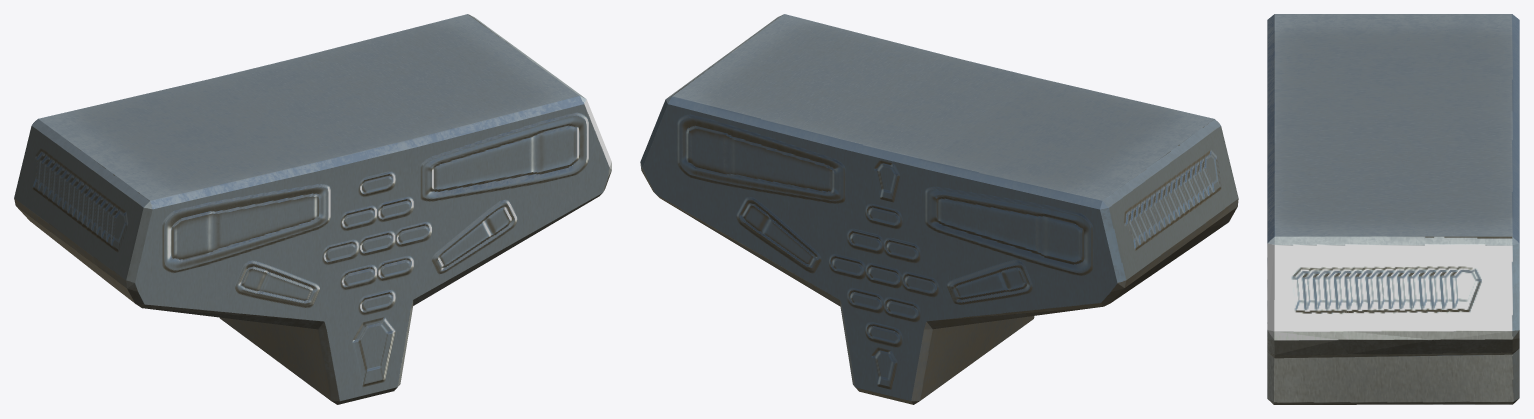
The model's file is PELVIS.obj.
The picture shows the model from 3 angles, left to right: view 1: azimuth 30°, elevation 25°; view 2: azimuth 150°, elevation 25°; view 3: azimuth 270°, elevation 25°; orthographic projection. The views are drawn at different scales.
Visible parts, largest first — view 1: pasted__pCube4 group; view 2: pasted__pCube4 group; view 3: pasted__pCube4 group.
Boxes of the visible parts, bbox=[...] form: pasted__pCube4 group: bbox=[14, 14, 611, 404]; pasted__pCube4 group: bbox=[640, 14, 1238, 404]; pasted__pCube4 group: bbox=[1267, 14, 1519, 404].
Size of the model in its own units: 2.36 by 1.16 by 1.
Materials: 1 (1 with a texture image).
